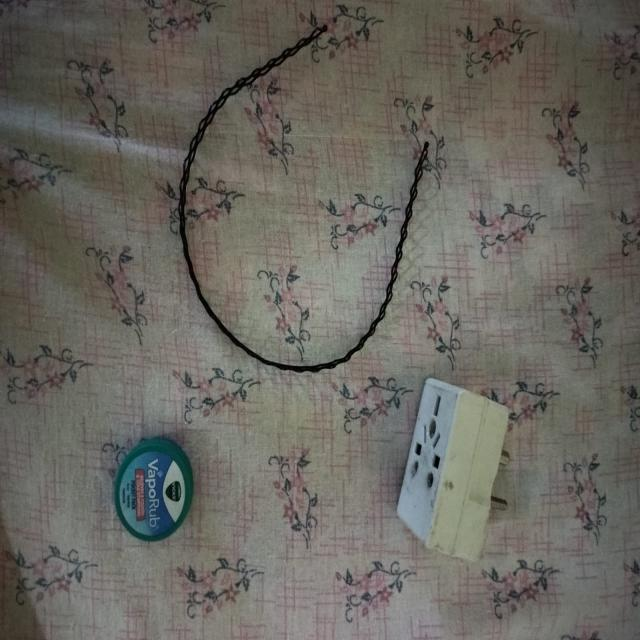dry: (159, 12, 432, 366), (385, 358, 515, 582), (106, 422, 205, 550)
